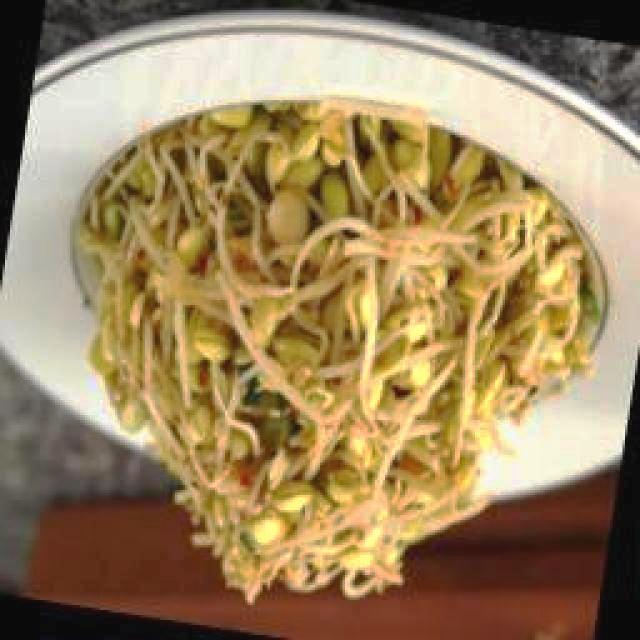mung_bean_sprouts: (81, 102, 589, 602)
